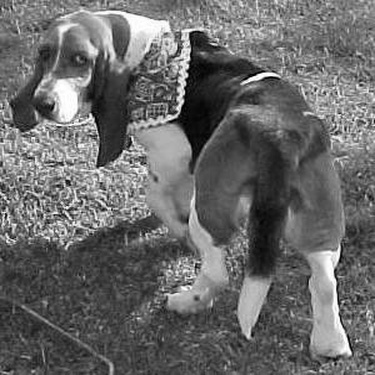dog: (11, 3, 355, 365)
